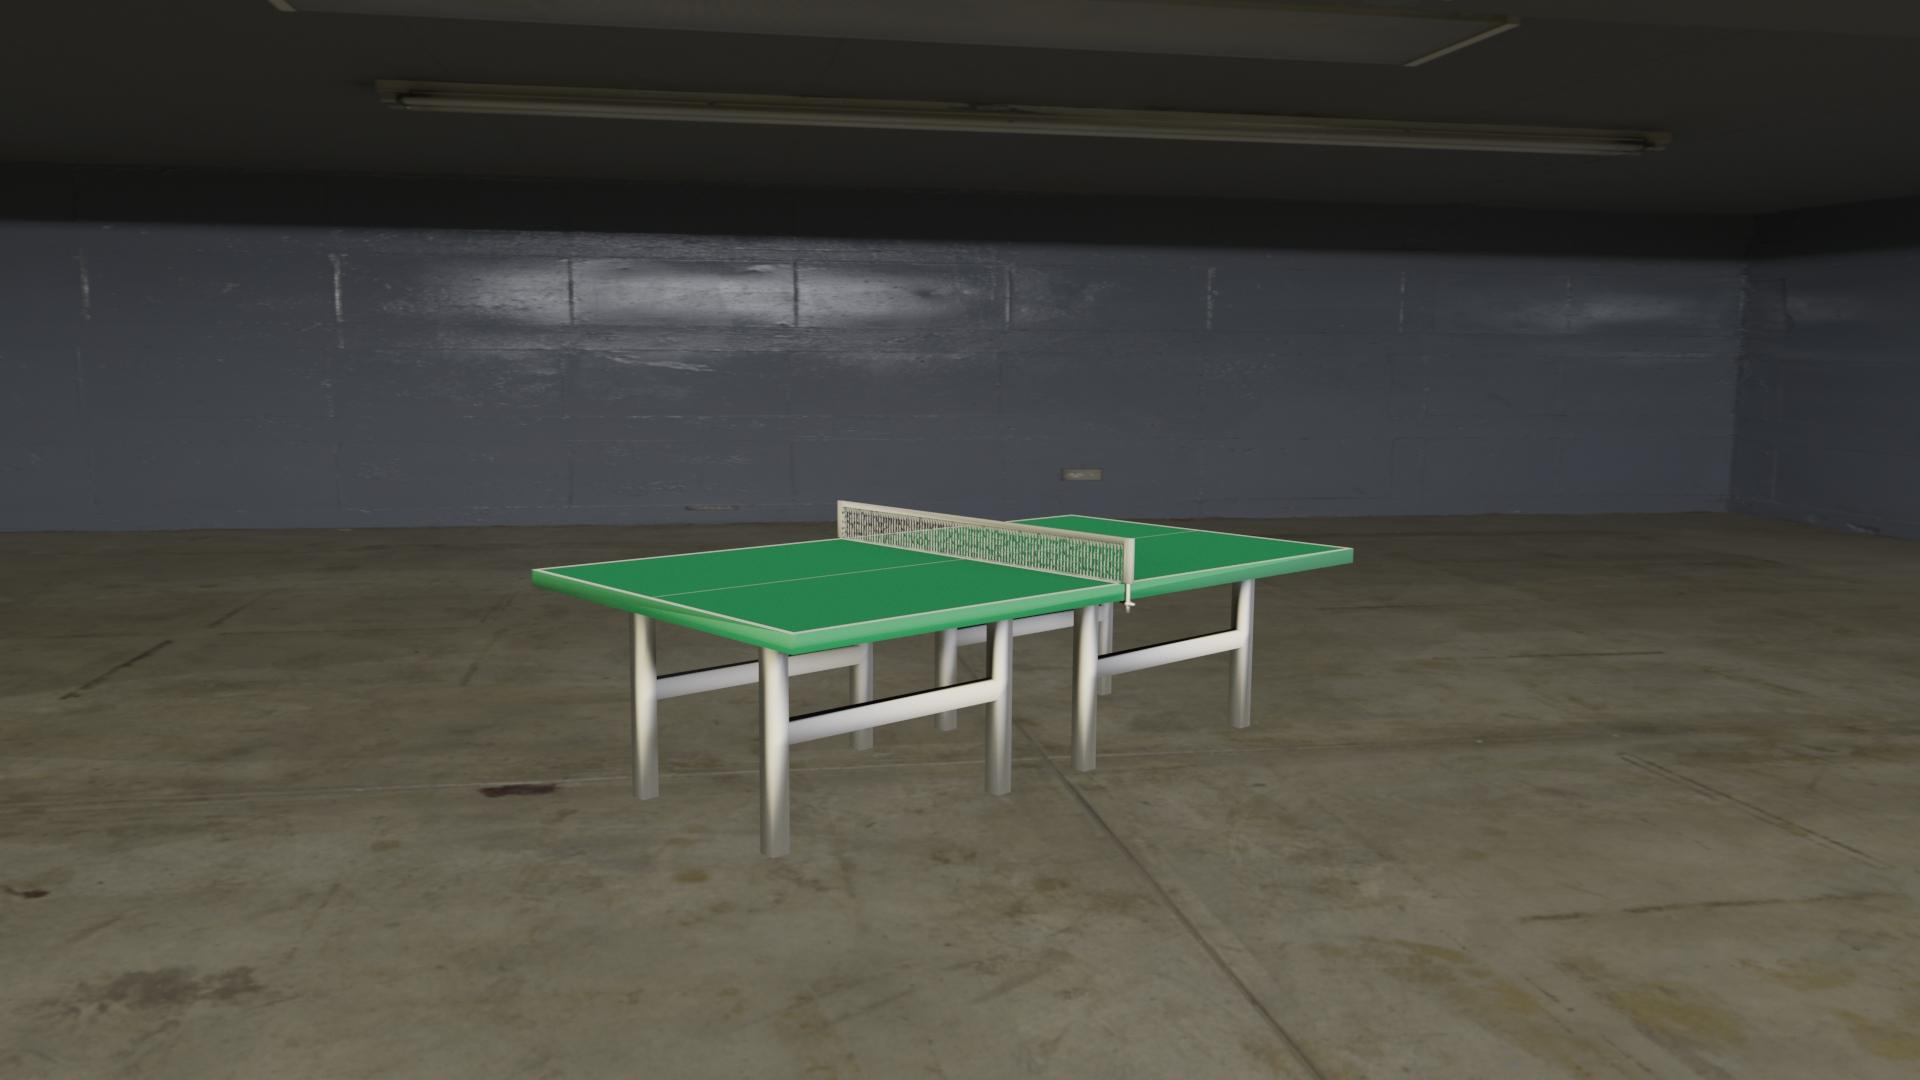table: (539, 516, 1346, 633)
